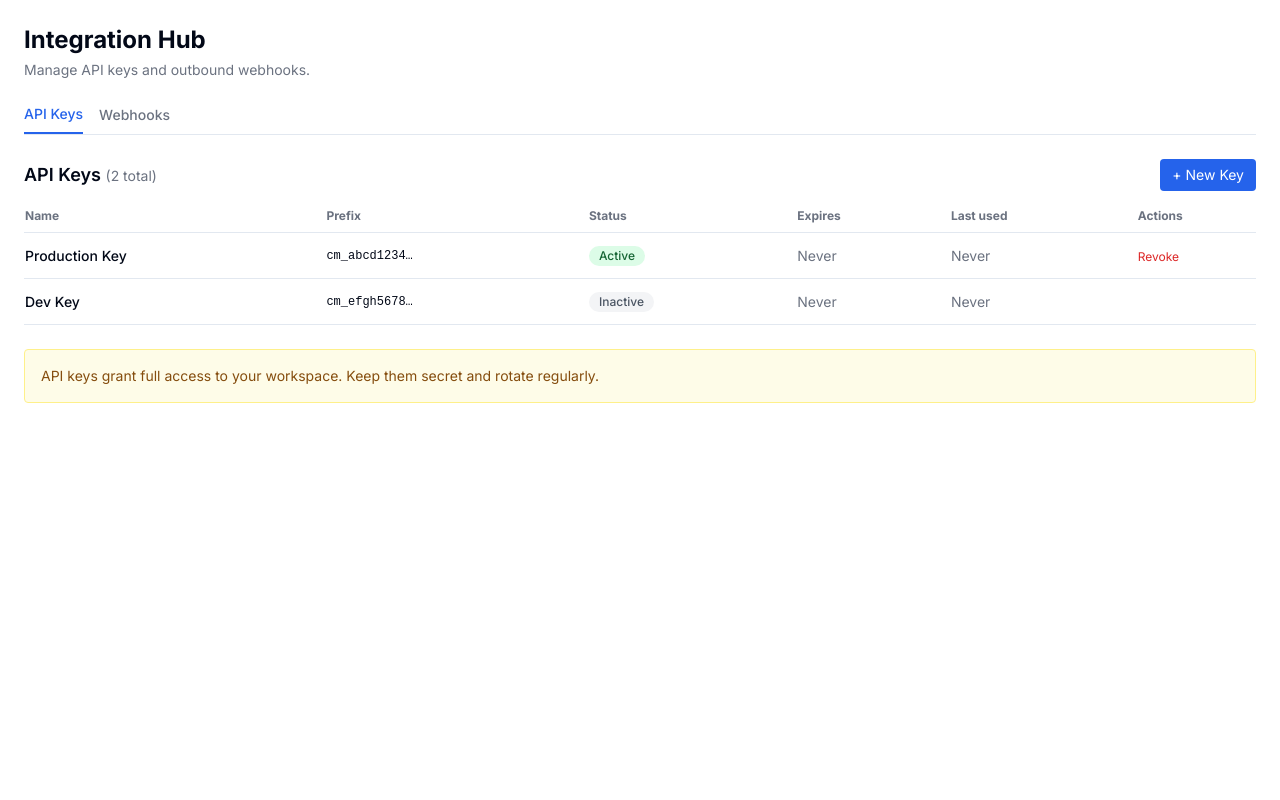
Test case: IntegrationCenter › clicking add api key button shows create dialog
Step 1. Click the button with test id "btn-add-api-key" → (1208, 175), box [1160, 159, 1256, 191]
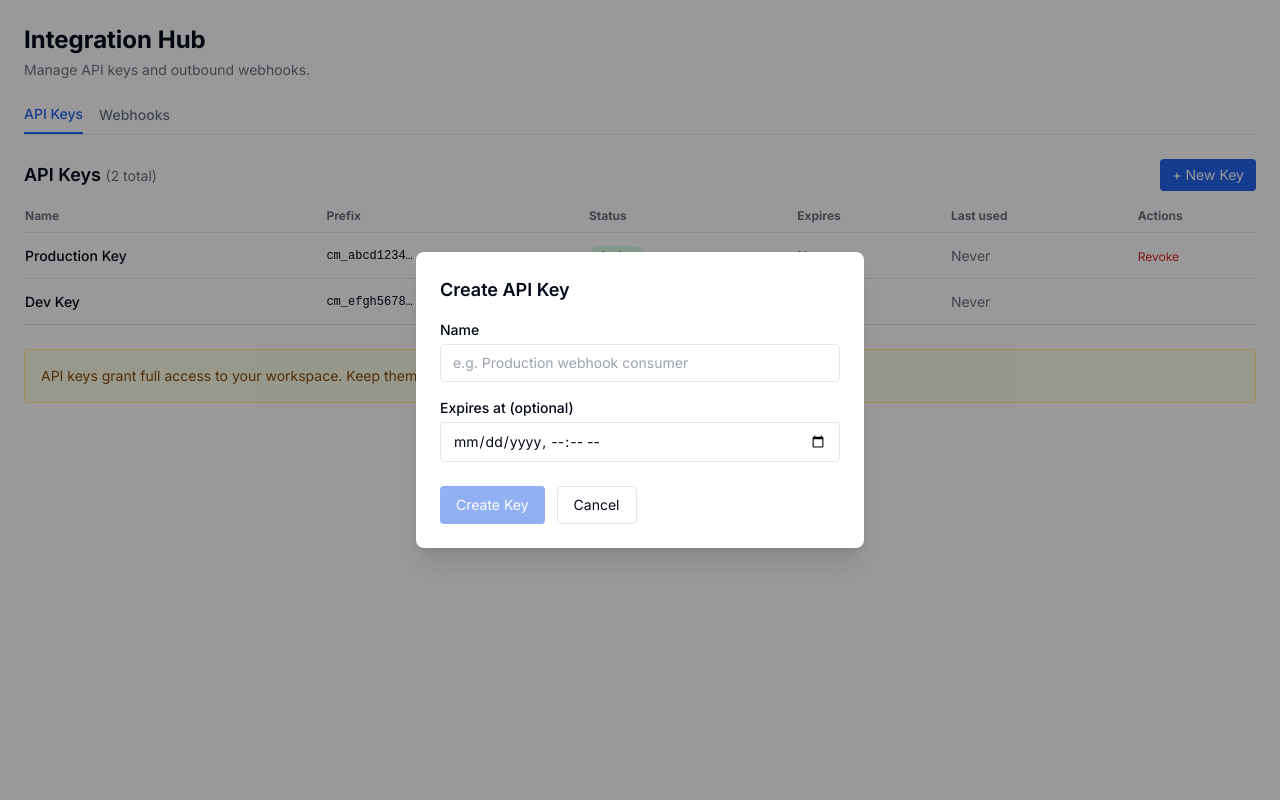
Now the element with test id "create-api-key-dialog" is shown
